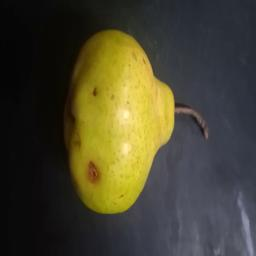Pear Semifresh: (46, 17, 220, 221)
